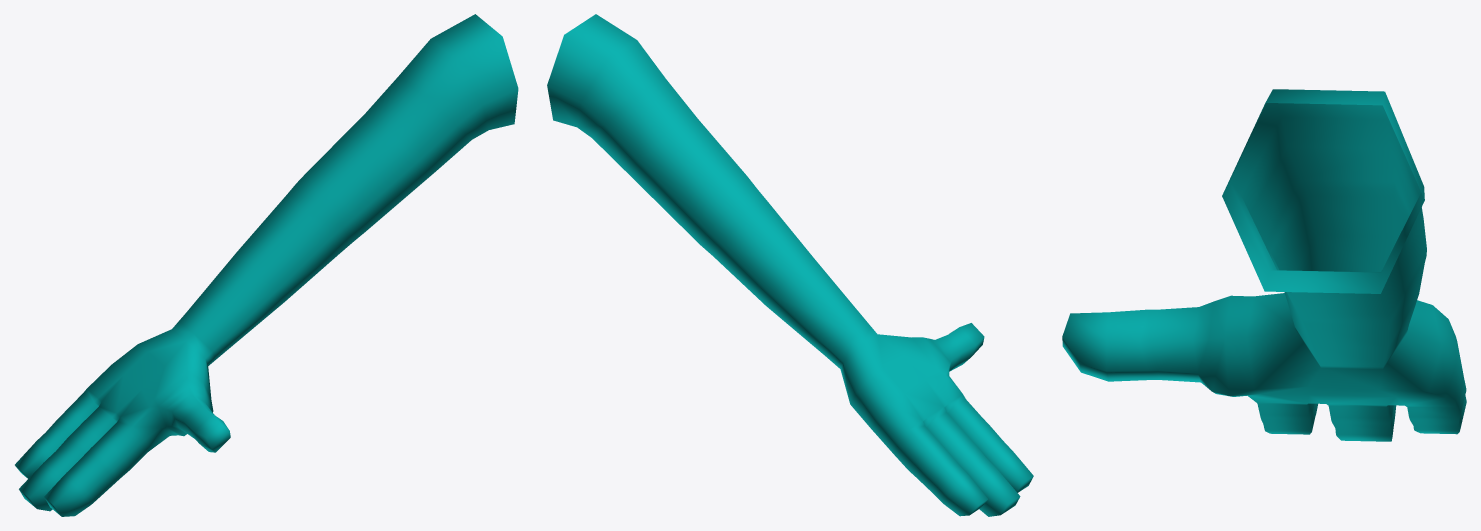
The model's file is Brazo_derechoPerry.obj.
The picture shows the model from 3 angles, left to right: view 1: azimuth 30°, elevation 25°; view 2: azimuth 150°, elevation 25°; view 3: azimuth 270°, elevation 25°; orthographic projection. The views are drawn at different scales.
Visible parts, largest first — view 1: BrazoDer; view 2: BrazoDer; view 3: BrazoDer.
Boxes of the visible parts, box(x1,y1,x2,y2) form: BrazoDer: box(15, 14, 518, 516); BrazoDer: box(547, 14, 1033, 516); BrazoDer: box(1062, 89, 1466, 441).
Bounding box in the file's own units: 1.04 × 0.8195 × 0.3989.
